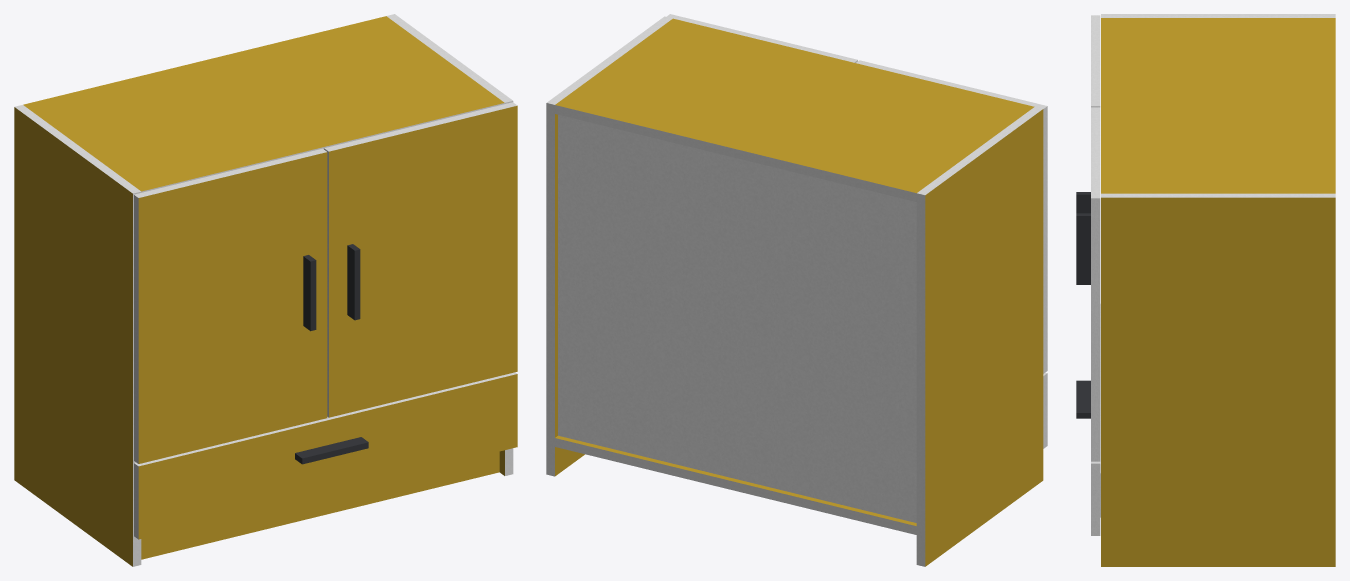
The model's file is FET-CAB-std.glb.
3 renders of one model, left to right at view 1: azimuth 30°, elevation 25°; view 2: azimuth 150°, elevation 25°; view 3: azimuth 270°, elevation 25°, orthographic.
Parts seen in each view (by area): view 1: door-l:pbr, door-r:pbr, side-l:pbr, top:pbr, d1-front:pbr, plinth:pbr, pull, door-l:sheet:eyJtIjoibWRmIiwic2lkZSI6ImVkZ2UtbG9uZyIsInNlZWQ, d1-front:sheet:eyJtIjoibWRmIiwic2lkZSI6ImVkZ2UtbG9uZyIsInNlZ, side-l:sheet:eyJtIjoibWRmIiwic2lkZSI6ImVkZ2UtZW5kIiwic2VlZCI, side-r:sheet:eyJtIjoibWRmIiwic2lkZSI6ImVkZ2UtZW5kIiwic2VlZCI, door-l:sheet:eyJtIjoibWRmIiwic2lkZSI6ImVkZ2UtZW5kIiwic2VlZCI (+2 smaller); view 2: back:sheet:eyJtIjoibWRmIiwic2lkZSI6ImZhY2UiLCJzZWVkIjoyLCJ0a, side-l:pbr, top:pbr, side-l:sheet:eyJtIjoibWRmIiwic2lkZSI6ImVkZ2UtbG9uZyIsInNlZWQ, top:sheet:eyJtIjoibWRmIiwic2lkZSI6ImVkZ2UtbG9uZyIsInNlZWQiOj, bottom:sheet:eyJtIjoibWRmIiwic2lkZSI6ImVkZ2UtbG9uZyIsInNlZWQ, side-r:sheet:eyJtIjoibWRmIiwic2lkZSI6ImVkZ2UtbG9uZyIsInNlZWQ, side-r:pbr, bottom:pbr, door-l:sheet:eyJtIjoibWRmIiwic2lkZSI6ImVkZ2UtbG9uZyIsInNlZWQ, side-l:sheet:eyJtIjoibWRmIiwic2lkZSI6ImVkZ2UtZW5kIiwic2VlZCI, side-r:sheet:eyJtIjoibWRmIiwic2lkZSI6ImVkZ2UtZW5kIiwic2VlZCI (+2 smaller); view 3: side-r:pbr, top:pbr, door-r:sheet:eyJtIjoibWRmIiwic2lkZSI6ImVkZ2UtbG9uZyIsInNlZWQ, pull, side-r:sheet:eyJtIjoibWRmIiwic2lkZSI6ImVkZ2UtZW5kIiwic2VlZCI, side-l:sheet:eyJtIjoibWRmIiwic2lkZSI6ImVkZ2UtZW5kIiwic2VlZCI, door-l:sheet:eyJtIjoibWRmIiwic2lkZSI6ImVkZ2UtZW5kIiwic2VlZCI, door-r:sheet:eyJtIjoibWRmIiwic2lkZSI6ImVkZ2UtZW5kIiwic2VlZCI, d1-front:sheet:eyJtIjoibWRmIiwic2lkZSI6ImVkZ2UtZW5kIiwic2VlZ.
Boxes of the visible parts, <box> form: door-l:pbr: <box>138,152,327,463</box>; door-r:pbr: <box>329,105,517,417</box>; side-l:pbr: <box>14,107,132,566</box>; top:pbr: <box>23,16,504,191</box>; d1-front:pbr: <box>138,374,517,539</box>; plinth:pbr: <box>141,451,499,559</box>; pull: <box>295,244,368,464</box>; door-l:sheet:eyJtIjoibWRmIiwic2lkZSI6ImVkZ2UtbG9uZyIsInNlZWQ: <box>134,195,138,463</box>; d1-front:sheet:eyJtIjoibWRmIiwic2lkZSI6ImVkZ2UtbG9uZyIsInNlZ: <box>134,372,517,466</box>; side-l:sheet:eyJtIjoibWRmIiwic2lkZSI6ImVkZ2UtZW5kIiwic2VlZCI: <box>14,105,140,193</box>; side-r:sheet:eyJtIjoibWRmIiwic2lkZSI6ImVkZ2UtZW5kIiwic2VlZCI: <box>386,14,512,102</box>; door-l:sheet:eyJtIjoibWRmIiwic2lkZSI6ImVkZ2UtZW5kIiwic2VlZCI: <box>134,148,326,197</box>; back:sheet:eyJtIjoibWRmIiwic2lkZSI6ImZhY2UiLCJzZWVkIjoyLCJ0a: <box>558,114,916,522</box>; side-l:pbr: <box>925,109,1043,566</box>; top:pbr: <box>555,18,1034,193</box>; side-l:sheet:eyJtIjoibWRmIiwic2lkZSI6ImVkZ2UtbG9uZyIsInNlZWQ: <box>916,193,925,566</box>; top:sheet:eyJtIjoibWRmIiwic2lkZSI6ImVkZ2UtbG9uZyIsInNlZWQiOj: <box>555,105,916,201</box>; bottom:sheet:eyJtIjoibWRmIiwic2lkZSI6ImVkZ2UtbG9uZyIsInNlZWQ: <box>555,438,916,534</box>; side-r:sheet:eyJtIjoibWRmIiwic2lkZSI6ImVkZ2UtbG9uZyIsInNlZWQ: <box>546,103,554,476</box>; side-r:pbr: <box>555,114,584,476</box>; bottom:pbr: <box>555,435,916,525</box>; door-l:sheet:eyJtIjoibWRmIiwic2lkZSI6ImVkZ2UtbG9uZyIsInNlZWQ: <box>1043,106,1047,373</box>; side-l:sheet:eyJtIjoibWRmIiwic2lkZSI6ImVkZ2UtZW5kIiwic2VlZCI: <box>917,107,1042,194</box>; side-r:sheet:eyJtIjoibWRmIiwic2lkZSI6ImVkZ2UtZW5kIiwic2VlZCI: <box>547,16,672,104</box>; side-r:pbr: <box>1101,197,1335,566</box>; top:pbr: <box>1101,18,1335,193</box>; door-r:sheet:eyJtIjoibWRmIiwic2lkZSI6ImVkZ2UtbG9uZyIsInNlZWQ: <box>1091,198,1100,461</box>; pull: <box>1076,192,1090,418</box>; side-r:sheet:eyJtIjoibWRmIiwic2lkZSI6ImVkZ2UtZW5kIiwic2VlZCI: <box>1101,193,1335,197</box>; side-l:sheet:eyJtIjoibWRmIiwic2lkZSI6ImVkZ2UtZW5kIiwic2VlZCI: <box>1101,14,1335,17</box>; door-l:sheet:eyJtIjoibWRmIiwic2lkZSI6ImVkZ2UtZW5kIiwic2VlZCI: <box>1091,15,1100,106</box>; door-r:sheet:eyJtIjoibWRmIiwic2lkZSI6ImVkZ2UtZW5kIiwic2VlZCI: <box>1091,107,1100,198</box>; d1-front:sheet:eyJtIjoibWRmIiwic2lkZSI6ImVkZ2UtZW5kIiwic2VlZ: <box>1091,463,1100,535</box>.
Bounding box in the file's own units: 0.8 × 0.75 × 0.4769.
Materials: 55 (42 with a texture image).
